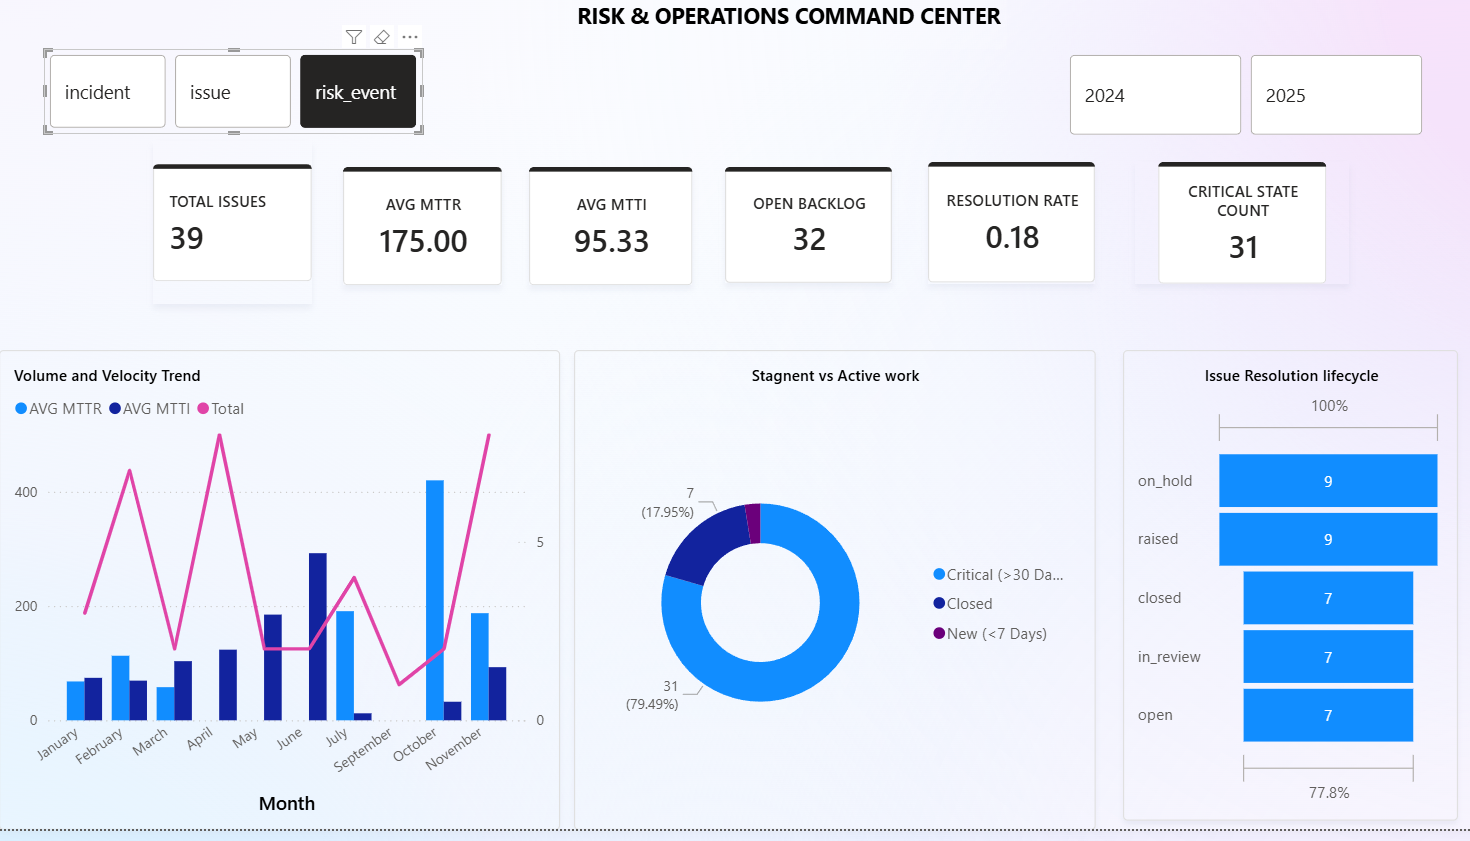

What the dashboard file says about the page in this screenshot:
{"tool":"powerbi","page":{"name":"OVERVIEW","canvas":[1280,720],"ordinal":0},"visuals":[{"type":"textbox","box":[493.4,0,376.1,46.6],"z":0},{"type":"cardVisual","title":"t","fields":{"Data":["Calendar.TOTAL ISSUES"]},"box":[132.5,126.3,137,141.5],"z":1000},{"type":"cardVisual","fields":{"Data":["Calendar.OPEN BACKLOG"]},"box":[626,148.7,144.2,100.3],"z":2000},{"type":"cardVisual","fields":{"Data":["Calendar.RESOLUTION RATE"]},"box":[801.5,144.2,144.2,104.8],"z":3000},{"type":"cardVisual","fields":{"Data":["Calendar.AVG MTTI"]},"box":[456.7,148.7,141.5,102.1],"z":4000},{"type":"cardVisual","fields":{"Data":["Calendar.CRITICAL STATE COUNT"]},"box":[979.7,144.2,185.4,105],"z":6000},{"type":"cardVisual","fields":{"Data":["Calendar.AVG MTTR"]},"box":[296.4,148.7,137,102.1],"z":7000},{"type":"lineClusteredColumnComboChart","title":"Volume and Velocity Trend","fields":{"Category":["fct_Issues.CreatedDate.Variation.Date Hierarchy.Month","fct_Issues.CreatedDate.Variation.Date Hierarchy.Day"],"Y2":["CountNonNull(fct_Issues.NaturalKey)"],"Y":["Calendar.AVG MTTR","Calendar.AVG MTTI"]},"box":[0,306.3,483.6,413.7],"z":8000},{"type":"funnel","title":"Issue Resolution lifecycle","fields":{"Category":["fct_Issues.CurrentStatus"],"Y":["Calendar.TOTAL ISSUES"]},"box":[969.9,306.3,289.3,405.7],"z":9000},{"type":"donutChart","title":"Stagnent vs Active work","fields":{"Category":["fct_Issues.AgeBucket"],"Y":["CountNonNull(fct_Issues.IsOpen)"]},"box":[496.1,306.3,449.6,413.7],"z":10000},{"type":"advancedSlicerVisual","fields":{"Values":["fct_Issues.Type"]},"box":[38.5,46.6,326.9,73.4],"z":12000},{"type":"advancedSlicerVisual","fields":{"Values":["fct_Issues.CreatedDate.Variation.Date Hierarchy.Year"]},"box":[918.8,46.6,315.2,79.7],"z":13000}]}

Visuals, with their boxes in screenshot pixels (x1, y1, x2, y2), scaled from the page's 1280x720 canvas onto the 1470x841 screenshot:
textbox: l=567, t=0, r=999, b=54
"t" cardVisual: l=152, t=148, r=310, b=313
cardVisual - Calendar.OPEN BACKLOG: l=719, t=174, r=885, b=291
cardVisual - Calendar.RESOLUTION RATE: l=920, t=168, r=1086, b=291
cardVisual - Calendar.AVG MTTI: l=524, t=174, r=687, b=293
cardVisual - Calendar.CRITICAL STATE COUNT: l=1125, t=168, r=1338, b=291
cardVisual - Calendar.AVG MTTR: l=340, t=174, r=498, b=293
"Volume and Velocity Trend" lineClusteredColumnComboChart: l=0, t=358, r=555, b=840
"Issue Resolution lifecycle" funnel: l=1114, t=358, r=1446, b=832
"Stagnent vs Active work" donutChart: l=570, t=358, r=1086, b=840
advancedSlicerVisual - fct_Issues.Type: l=44, t=54, r=420, b=140
advancedSlicerVisual - fct_Issues.CreatedDate.Variation.Date Hierarchy.Year: l=1055, t=54, r=1417, b=148
